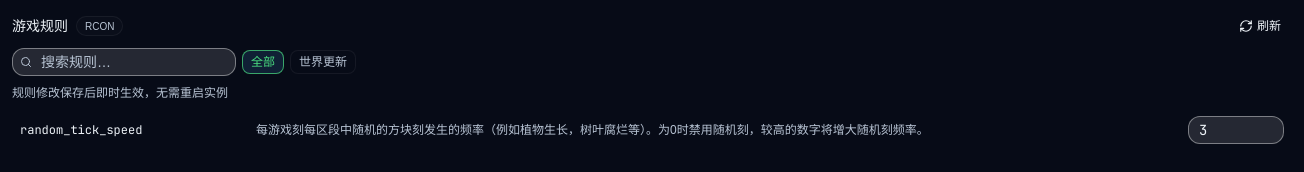
it: GamerulePanel 行级编辑 › 越界值就地拦下并给出原因（该回包在服务端是静默成功，不拦就会「界面说改了、服务器没改」）
Expected: the text "random_tick_speed" is shown, [20,122,142,138]
Step 1. Clear the field named "random_tick_speed 值" → (1236, 130), box [1188,116,1284,144]
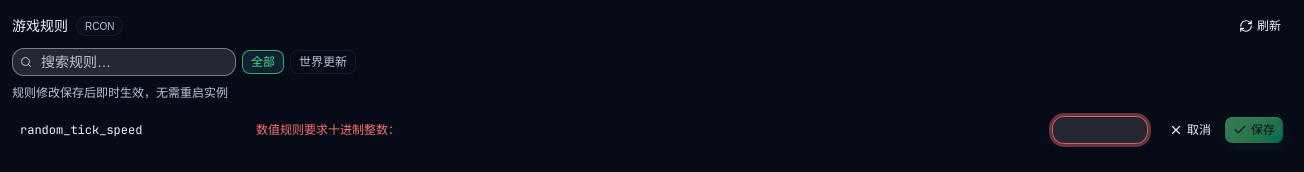
Step 2. Type "-1" into the field named "random_tick_speed 值" → (1100, 130), box [1052,116,1148,144]
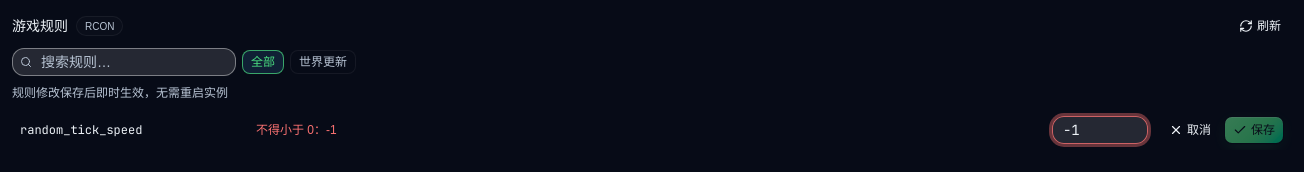
Expected: the button "保存" is disabled, [1224,116,1284,144]
Expected: the text "不得小于 0：-1" is shown, [256,123,337,137]
Step 3. Replace the text in the field named "random_tick_speed 值" with "0" → (1100, 130), box [1052,116,1148,144]
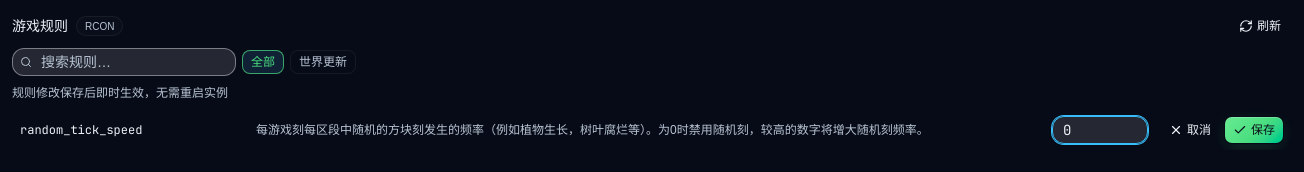
Expected: the button "保存" is enabled, [1224,116,1284,144]
